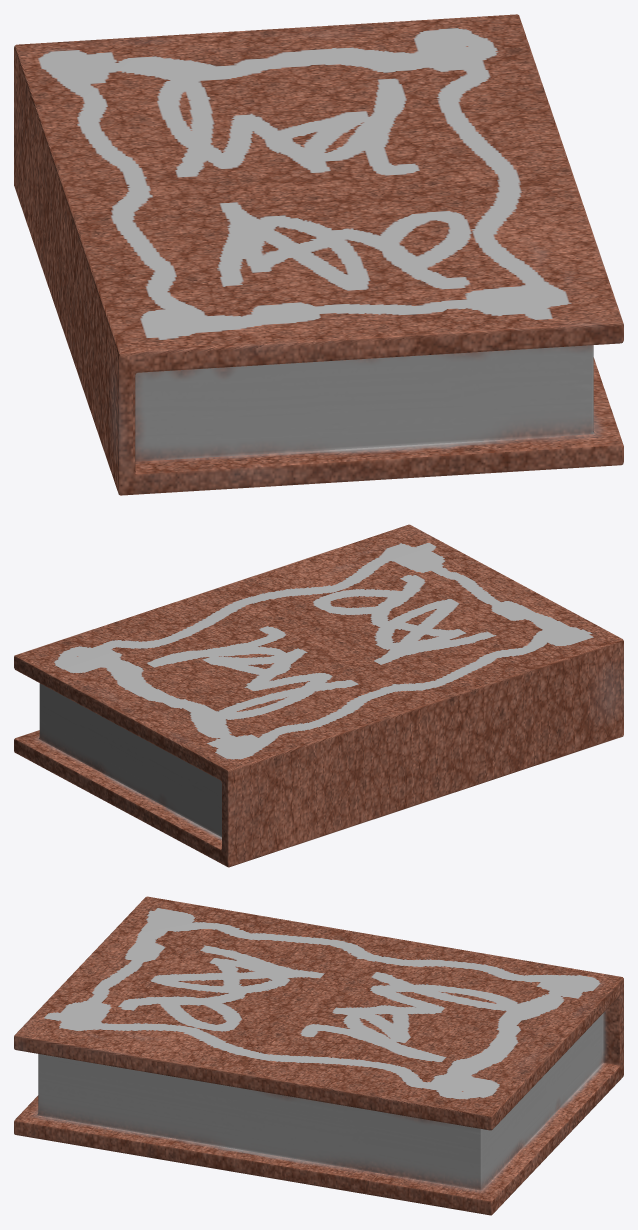
Rendered from BookBetter.fbx.
The picture shows the model from 3 angles, top to bottom: view 1: azimuth 30°, elevation 25°; view 2: azimuth 150°, elevation 25°; view 3: azimuth 270°, elevation 25°; orthographic projection. The views are drawn at different scales.
Visible parts, largest first — view 1: Square_Book5; view 2: Square_Book5; view 3: Square_Book5.
Part boxes in pixels (bbox=[...]): Square_Book5: bbox=[14, 14, 623, 495]; Square_Book5: bbox=[14, 524, 623, 867]; Square_Book5: bbox=[14, 896, 623, 1215].
Bounding box in the file's own units: 2.59 × 0.5491 × 3.03.
